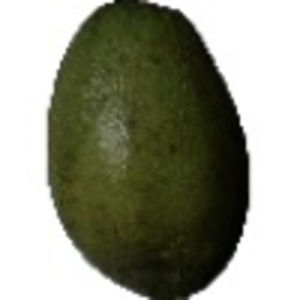abacate: (38, 1, 253, 291)
